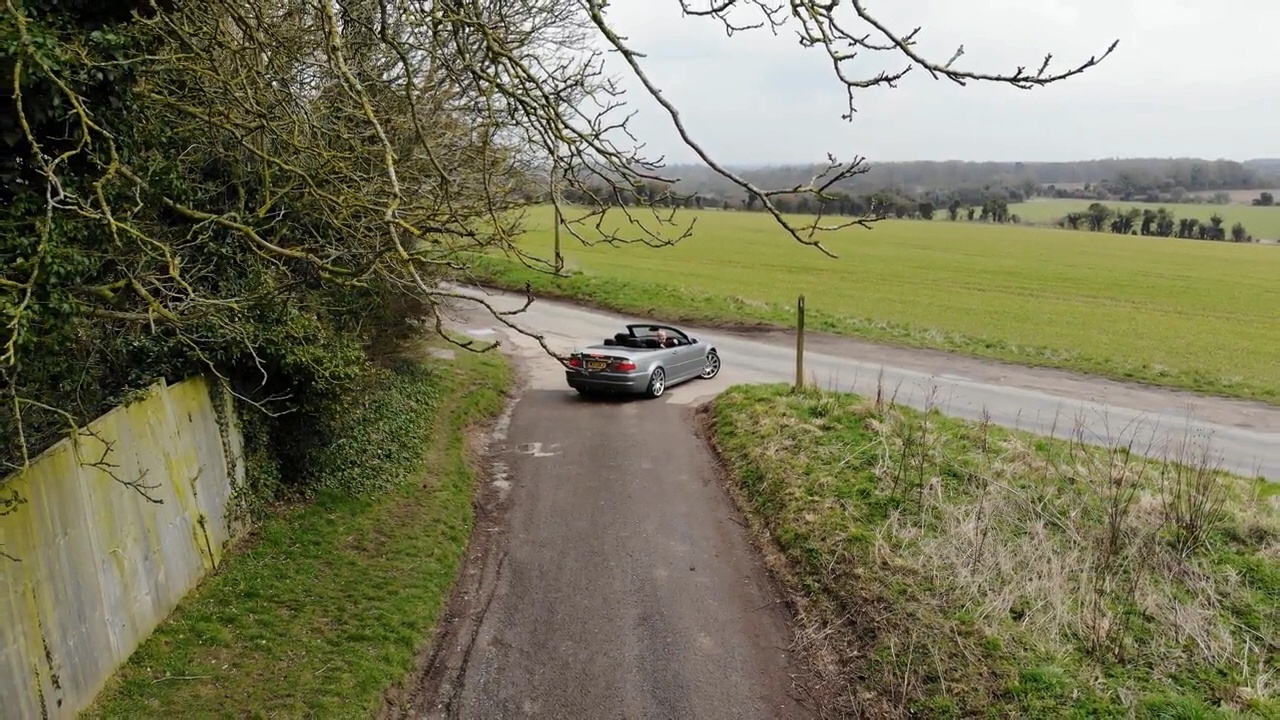araba: (561, 323, 722, 397)
